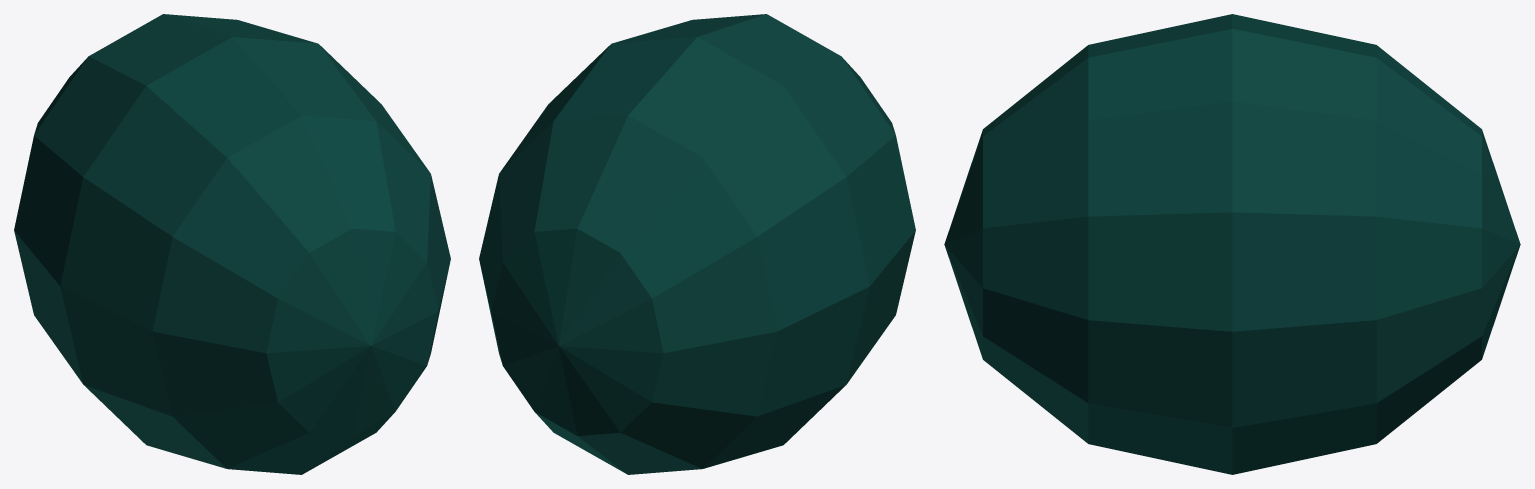
File: Resident0Body.obj
3 views of the same model, side by side, from view 1: azimuth 30°, elevation 25°; view 2: azimuth 150°, elevation 25°; view 3: azimuth 270°, elevation 25° (orthographic). The views are drawn at different scales.
Parts seen in each view (by area): view 1: Resident0Body; view 2: Resident0Body; view 3: Resident0Body.
Boxes of the visible parts, x1,y1,x2,y2 form: Resident0Body: (14, 14, 450, 474); Resident0Body: (479, 14, 915, 474); Resident0Body: (944, 14, 1520, 474).
Bounding box in the file's own units: 66 × 76 × 92.
